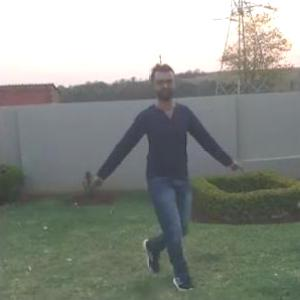land: (109, 76, 220, 240)
